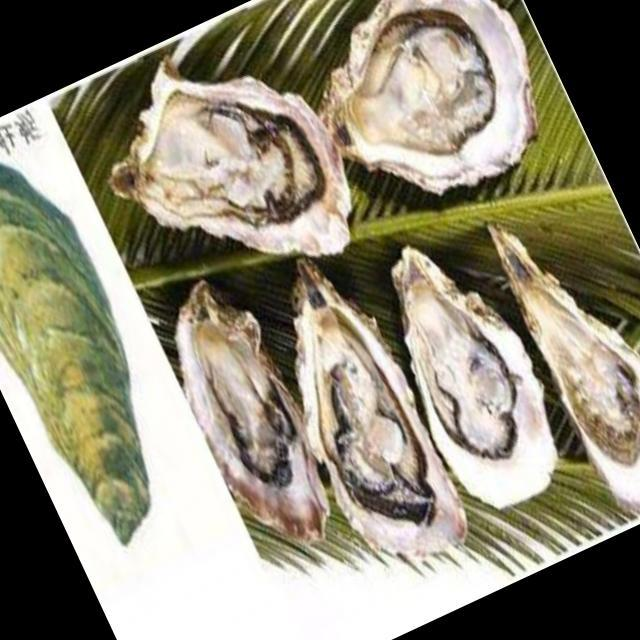Oyster- Indeterminate: (0, 114, 216, 573)
Oyster-Open: (65, 4, 381, 337), (233, 238, 488, 592), (351, 212, 588, 532), (279, 0, 575, 242), (136, 258, 355, 568), (475, 180, 640, 529)
